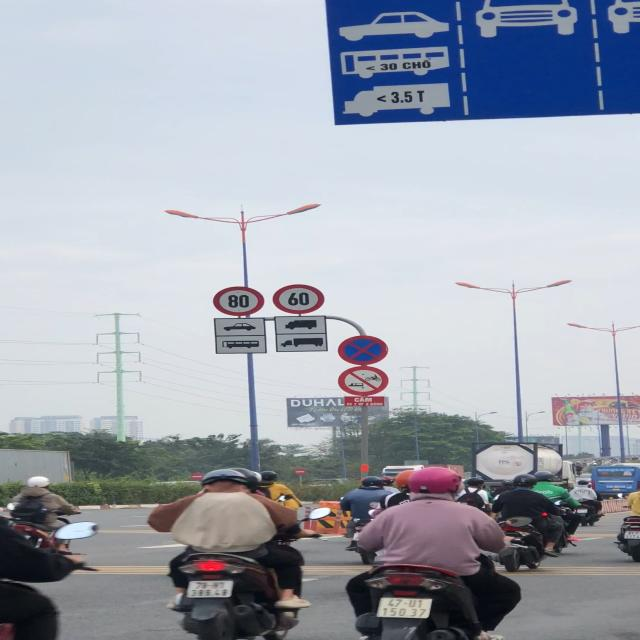Bien bao cam dung xe va do xe: (338, 335, 388, 366)
Bien bao toc do toi da cho phep: (213, 285, 266, 317), (273, 284, 323, 314)
